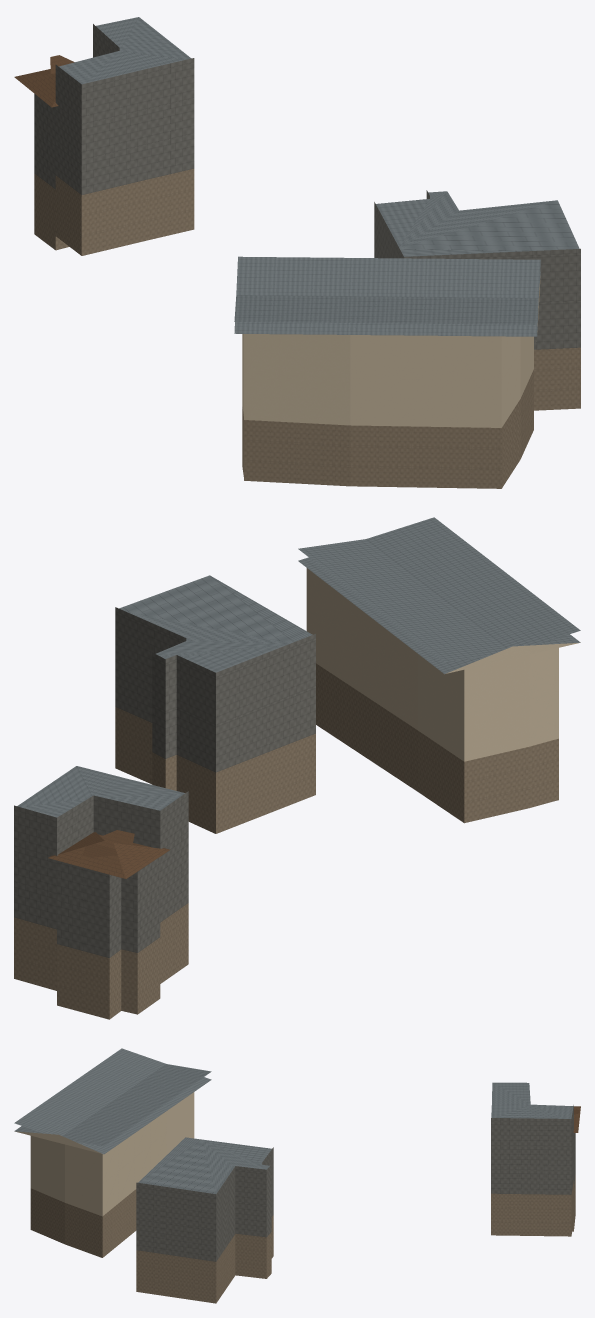
File: bld_c36_-29_446.gltf
3 renders of one model, top to bottom at view 1: azimuth 30°, elevation 25°; view 2: azimuth 150°, elevation 25°; view 3: azimuth 270°, elevation 25°, orthographic. The views are drawn at different scales.
Visible parts, largest first — view 1: bld_c36_-29_446; view 2: bld_c36_-29_446; view 3: bld_c36_-29_446.
Part boxes in pixels (x1,y1,x2,y2): bld_c36_-29_446: (14,17,580,488); bld_c36_-29_446: (14,517,580,1019); bld_c36_-29_446: (14,1048,580,1303).
Bounding box in the file's own units: 34.38 × 16.08 × 62.87.
7 materials, 7 textured.
